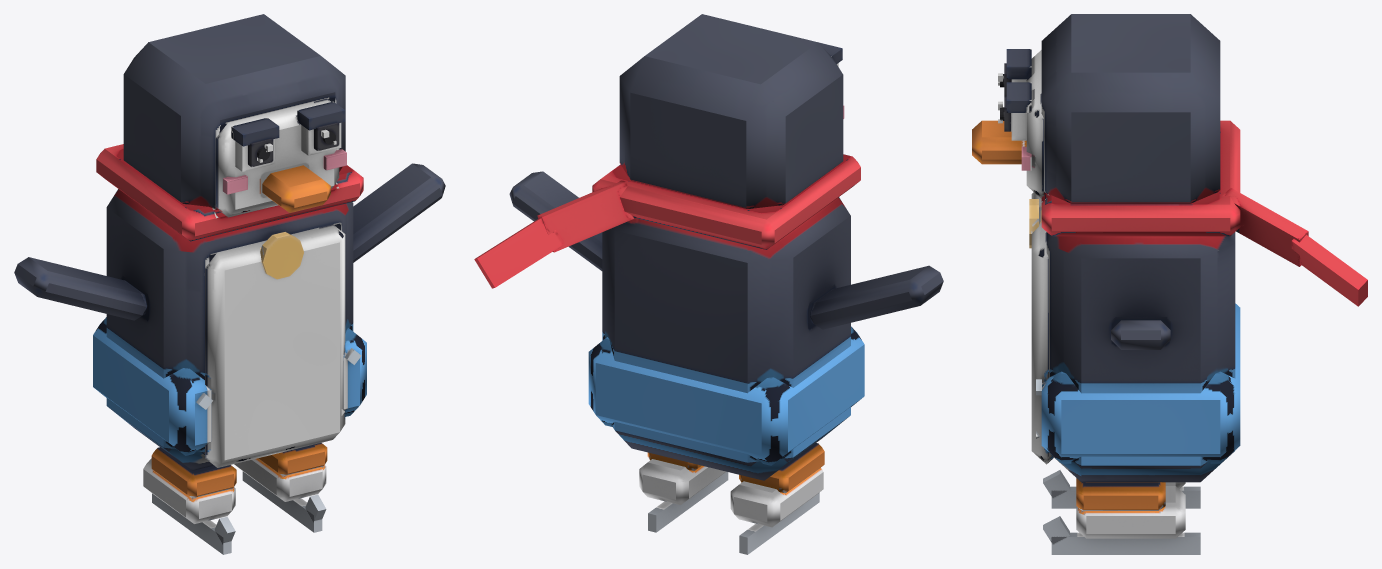
File: PingouinPatineur_Rig.fbx
The picture shows the model from 3 angles, left to right: view 1: azimuth 30°, elevation 25°; view 2: azimuth 150°, elevation 25°; view 3: azimuth 270°, elevation 25°; orthographic projection. The views are drawn at different scales.
Visible parts, largest first — view 1: Body, Head, LegR, LegL, WingR, WingL; view 2: Body, Head, Scarf, LegR, WingR, LegL, WingL; view 3: Body, Head, LegL, Scarf, WingL, LegR.
Boxes of the visible parts, left/top/right/bottom form: Body: left=93, top=144, right=366, bottom=470; Head: left=123, top=14, right=346, bottom=217; LegR: left=143, top=447, right=236, bottom=554; LegL: left=234, top=443, right=327, bottom=532; WingR: left=14, top=257, right=147, bottom=320; WingL: left=353, top=163, right=445, bottom=262; Body: left=588, top=154, right=864, bottom=480; Head: left=619, top=14, right=844, bottom=208; Scarf: left=474, top=180, right=636, bottom=288; LegR: left=730, top=443, right=824, bottom=554; WingR: left=810, top=265, right=943, bottom=329; LegL: left=639, top=452, right=728, bottom=532; WingL: left=509, top=171, right=602, bottom=270; Body: left=1029, top=120, right=1240, bottom=482; Head: left=972, top=14, right=1220, bottom=203; LegL: left=1043, top=478, right=1200, bottom=554; Scarf: left=1222, top=188, right=1367, bottom=306; WingL: left=1111, top=320, right=1170, bottom=349; LegR: left=1043, top=470, right=1200, bottom=508.
Size of the model in its own units: 5.56 by 6 by 4.43.
1 material, 1 textured.
